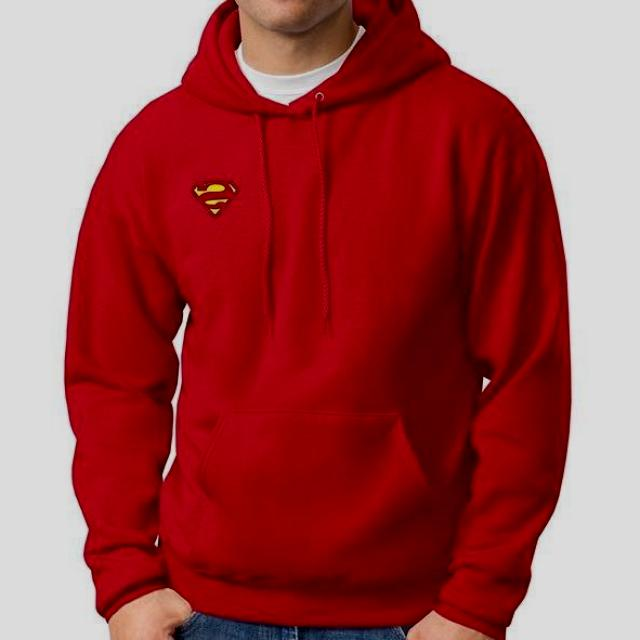sweater: (48, 0, 584, 627)
